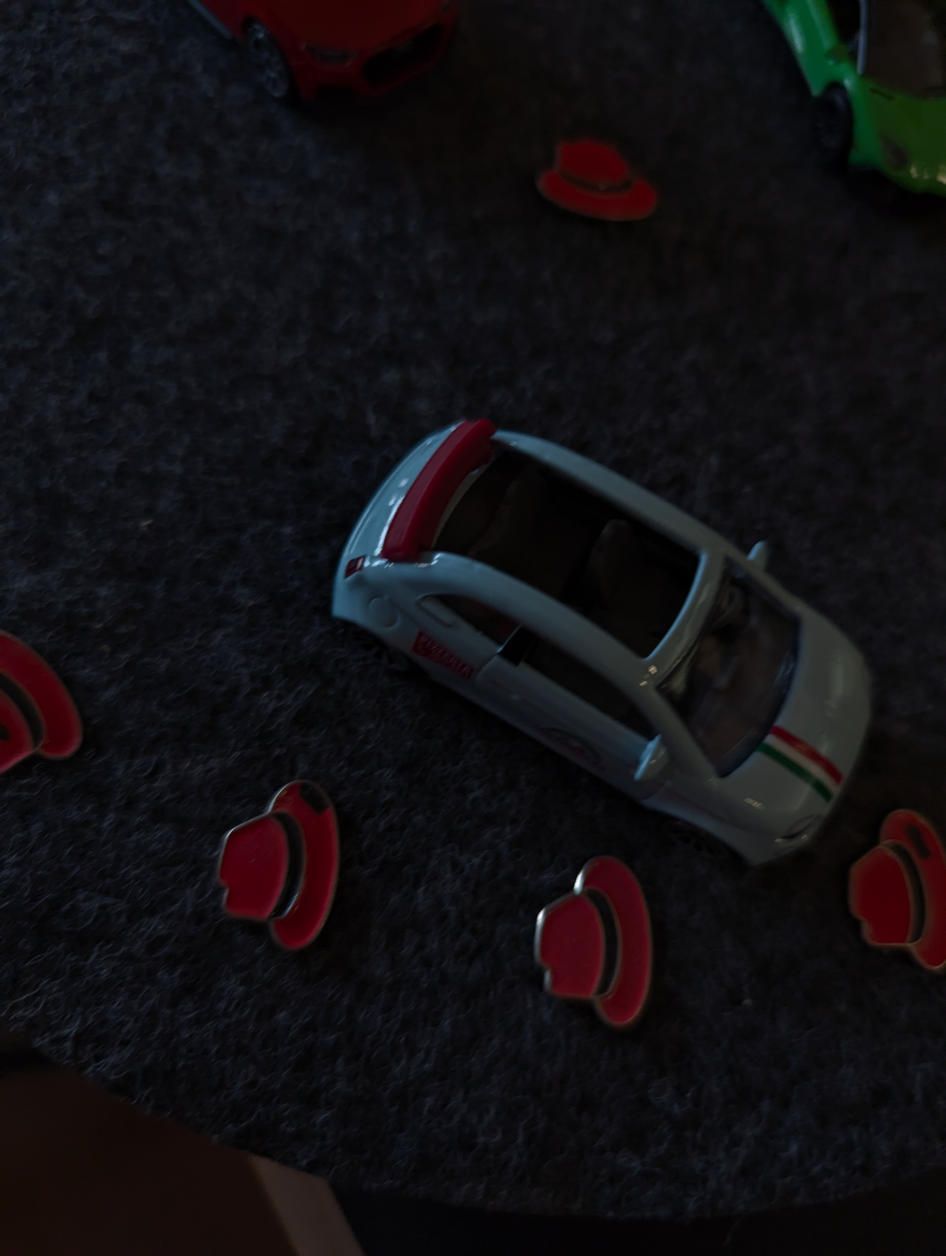Car: (281, 371, 892, 907), (771, 0, 946, 218)
Red-Hat: (184, 728, 368, 970), (525, 837, 673, 1064), (836, 782, 946, 992), (506, 119, 695, 235), (0, 627, 93, 773)
Scratch: (890, 804, 946, 871), (285, 763, 334, 822)
